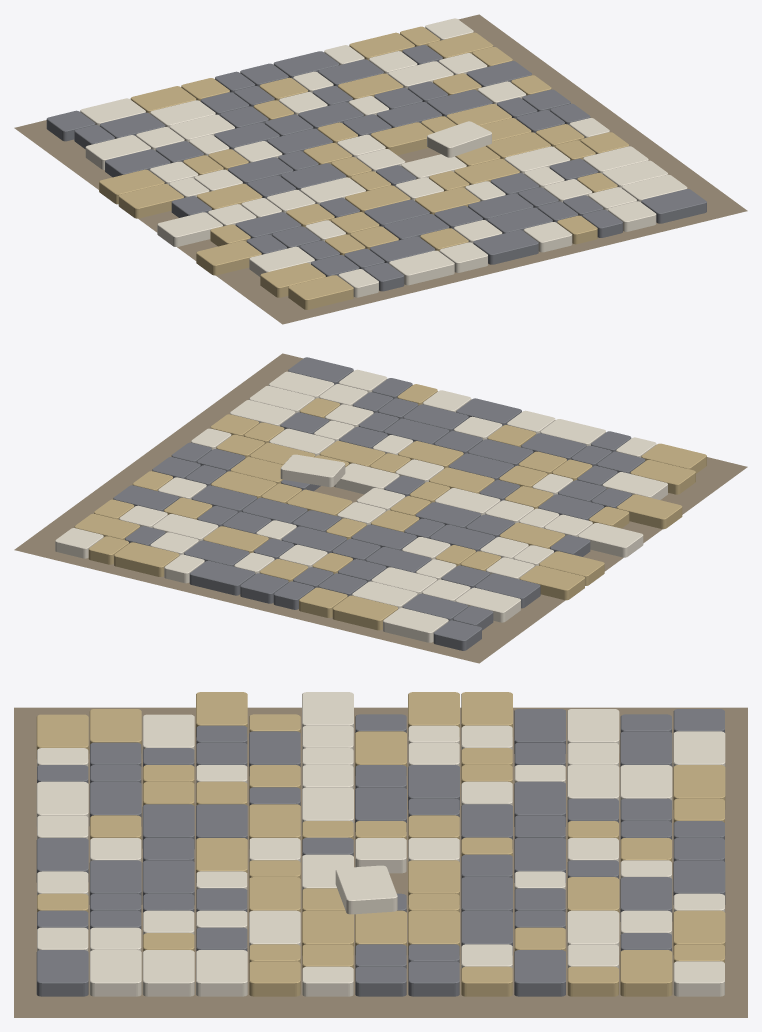
File: terilgan.glb
The picture shows the model from 3 angles, top to bottom: view 1: azimuth 30°, elevation 25°; view 2: azimuth 150°, elevation 25°; view 3: azimuth 270°, elevation 25°; orthographic projection. The views are drawn at different scales.
Parts seen in each view (by area): view 1: qum, t, t.074, t.056, t.033, t.079, t.003, t.005, t.010, t.086, t.011, t.091 (+95 smaller); view 2: qum, t.074, t.033, t.056, t.142, t.138, t.137, t.144, t.091, t.114, t.011, t.063 (+93 smaller); view 3: qum, t.074, t.021, t.135, t.010, t.032, t.044, t.113, t.122, t.014, t.144, t.003 (+135 smaller).
Part boxes in pixels (<box>): qum: <box>14,14,747,324</box>; t: <box>288,275,353,309</box>; t.074: <box>427,121,491,157</box>; t.056: <box>157,212,222,246</box>; t.033: <box>196,240,261,275</box>; t.079: <box>118,184,183,218</box>; t.003: <box>389,250,454,285</box>; t.005: <box>473,230,538,264</box>; t.010: <box>641,189,706,223</box>; t.086: <box>371,122,433,155</box>; t.011: <box>260,263,325,297</box>; t.091: <box>99,169,164,204</box>; qum: <box>14,353,747,663</box>; t.074: <box>280,454,345,487</box>; t.033: <box>616,494,682,529</box>; t.056: <box>578,523,643,557</box>; t.142: <box>189,560,255,595</box>; t.138: <box>332,595,397,630</box>; t.137: <box>383,608,448,642</box>; t.144: <box>114,542,179,576</box>; t.091: <box>519,565,584,600</box>; t.114: <box>455,587,520,622</box>; t.011: <box>630,460,695,494</box>; t.063: <box>334,463,399,494</box>; qum: <box>14,707,747,1017</box>; t.074: <box>335,865,397,914</box>; t.021: <box>89,950,141,996</box>; t.135: <box>620,950,672,996</box>; t.010: <box>36,950,88,996</box>; t.032: <box>142,950,194,996</box>; t.044: <box>196,950,247,996</box>; t.113: <box>514,950,565,996</box>; t.122: <box>567,910,619,955</box>; t.014: <box>89,781,141,826</box>; t.144: <box>673,910,725,955</box>; t.003: <box>36,781,88,826</box>.
Size of the model in its own units: 1.67 by 0.072 by 1.66.
